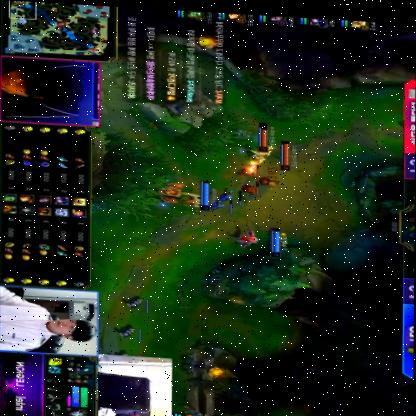streamer: (0, 286, 97, 356), (0, 57, 77, 118)
